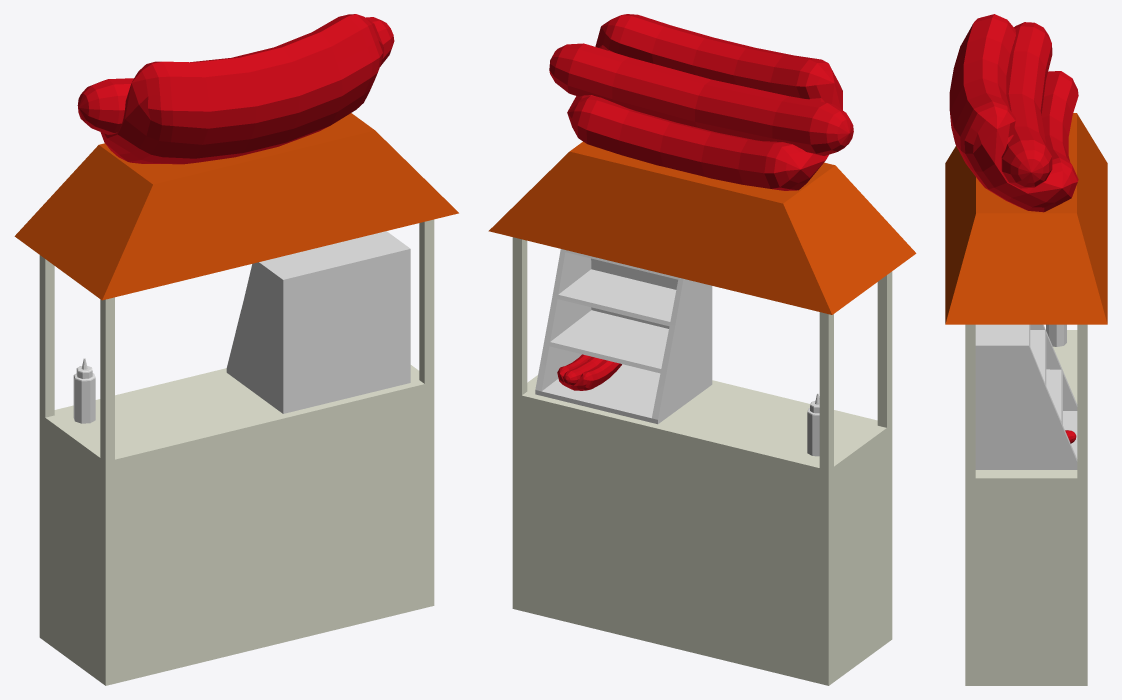
Rendered from HotDogStand.fbx.
3 renders of one model, left to right at view 1: azimuth 30°, elevation 25°; view 2: azimuth 150°, elevation 25°; view 3: azimuth 270°, elevation 25°, orthographic. The views are drawn at different scales.
Visible parts, largest first — view 1: HotDogStand, HotDogStand_Top, HotDogStand_Cabinet, HotDogStand_Bun001, HotDogStand_Sausage001, HotDogStand_Bottle; view 2: HotDogStand, HotDogStand_Top, HotDogStand_Cabinet, HotDogStand_Bun001, HotDogStand_Sausage001, HotDogStand_Bun, HotDogStand_Bottle; view 3: HotDogStand, HotDogStand_Top, HotDogStand_Cabinet, HotDogStand_Bun001, HotDogStand_Sausage001, HotDogStand_Bottle.
Part boxes in pixels (bbox=[...]): HotDogStand: bbox=[39, 219, 434, 685]; HotDogStand_Top: bbox=[14, 113, 458, 300]; HotDogStand_Cabinet: bbox=[226, 231, 410, 413]; HotDogStand_Bun001: bbox=[100, 14, 383, 164]; HotDogStand_Sausage001: bbox=[77, 17, 394, 134]; HotDogStand_Bottle: bbox=[73, 358, 95, 423]; HotDogStand: bbox=[512, 237, 892, 685]; HotDogStand_Top: bbox=[488, 141, 916, 314]; HotDogStand_Cabinet: bbox=[535, 249, 712, 424]; HotDogStand_Bun001: bbox=[567, 14, 842, 190]; HotDogStand_Sausage001: bbox=[549, 43, 853, 155]; HotDogStand_Bun: bbox=[557, 354, 621, 390]; HotDogStand_Bottle: bbox=[807, 393, 819, 456]; HotDogStand: bbox=[965, 324, 1087, 685]; HotDogStand_Top: bbox=[945, 113, 1107, 324]; HotDogStand_Cabinet: bbox=[975, 324, 1077, 469]; HotDogStand_Bun001: bbox=[949, 14, 1078, 212]; HotDogStand_Sausage001: bbox=[1001, 22, 1052, 188]; HotDogStand_Bottle: bbox=[1046, 324, 1066, 346].
Bounding box in the file's own units: 1088 × 1734 × 462.
